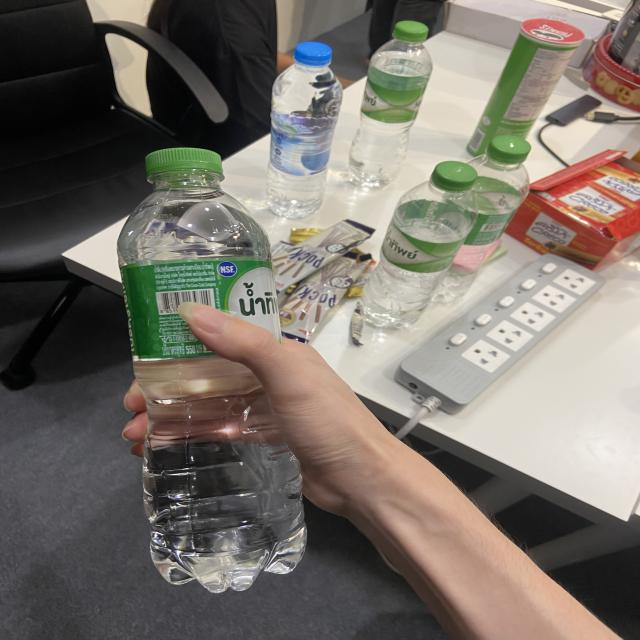bottle: (115, 143, 308, 598), (359, 160, 478, 334), (434, 132, 533, 306), (346, 21, 434, 191), (264, 40, 342, 218)
